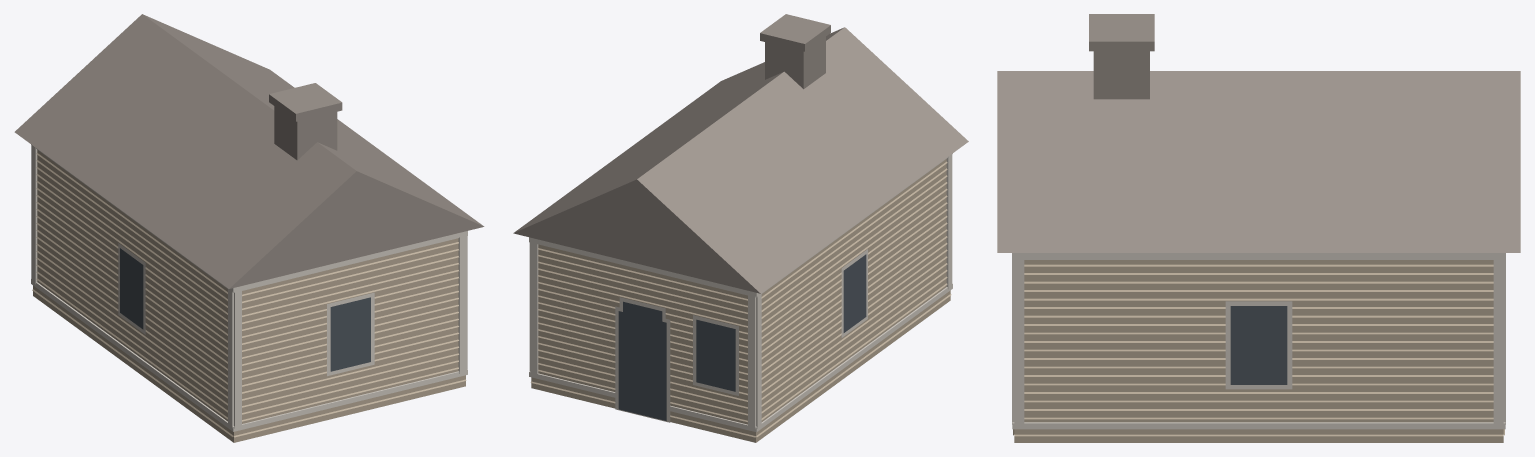
The model's file is inf_shoemaker_shop__inferred_1835.glb.
3 views of the same model, side by side, from view 1: azimuth 30°, elevation 25°; view 2: azimuth 150°, elevation 25°; view 3: azimuth 270°, elevation 25° (orthographic). The views are drawn at different scales.
Visible parts, largest first — view 1: inf_shoemaker_shop__inferred_1835; view 2: inf_shoemaker_shop__inferred_1835; view 3: inf_shoemaker_shop__inferred_1835.
Boxes of the visible parts, <box> form: inf_shoemaker_shop__inferred_1835: <box>14,14,484,442</box>; inf_shoemaker_shop__inferred_1835: <box>513,14,968,442</box>; inf_shoemaker_shop__inferred_1835: <box>997,14,1520,442</box>.
Size of the model in its own units: 5.38 by 5.71 by 7.82.
